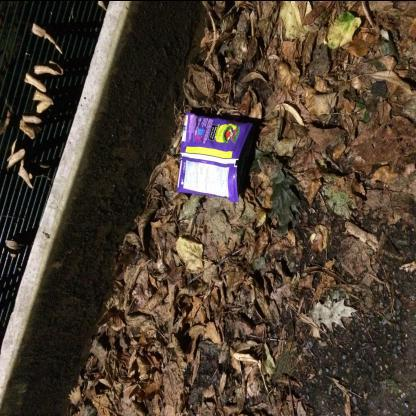plastik: (178, 112, 258, 204)
